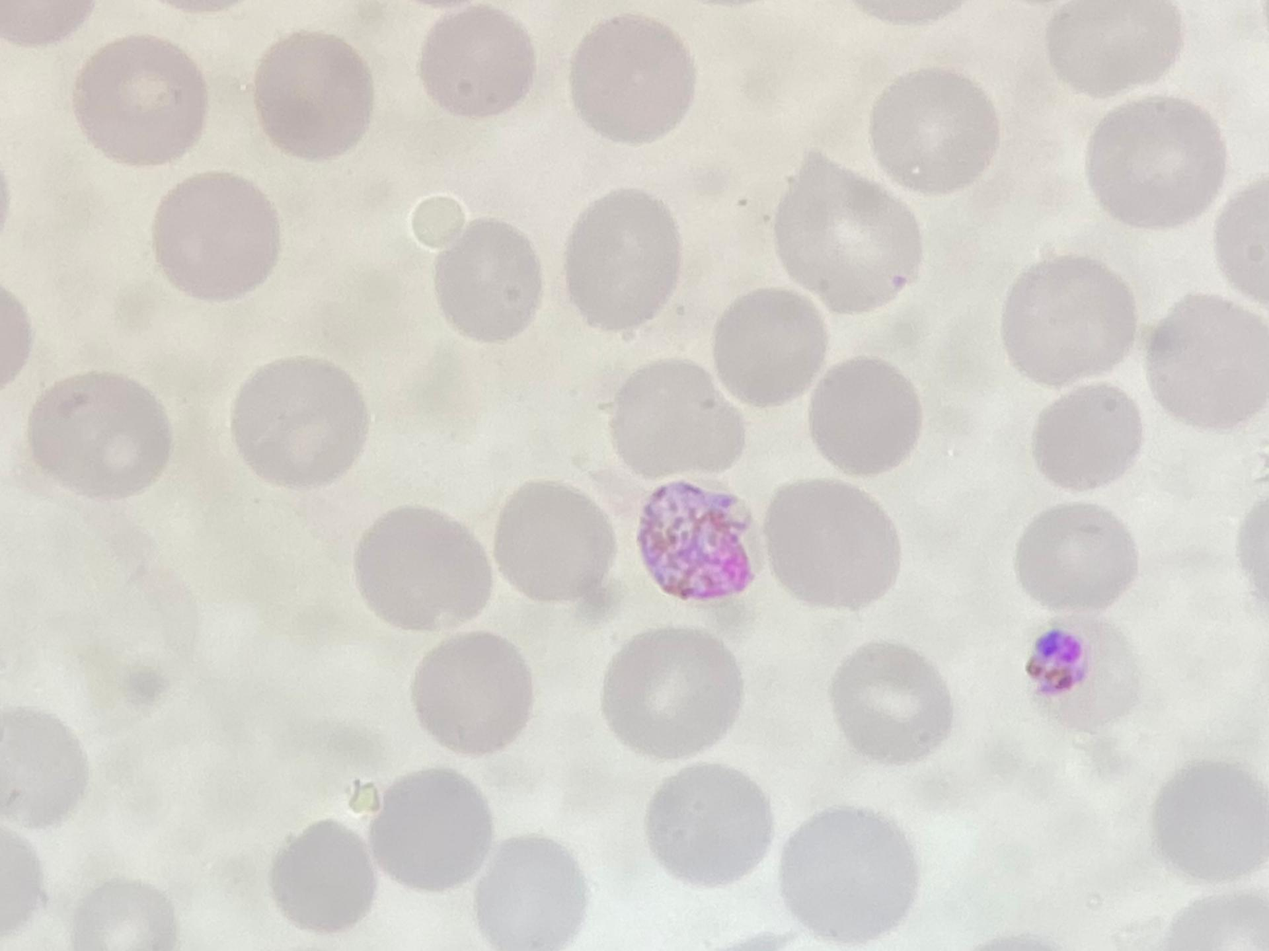Infected: (638, 473, 768, 600)
Uninfected: (775, 155, 923, 311), (1086, 93, 1229, 228), (779, 805, 919, 940), (26, 371, 170, 500), (600, 628, 744, 757), (228, 357, 367, 490), (761, 478, 900, 611), (352, 505, 494, 632), (73, 36, 206, 164), (1002, 256, 1136, 383), (605, 360, 744, 481), (150, 172, 278, 301), (638, 762, 769, 888), (1147, 293, 1269, 428), (867, 69, 998, 192), (563, 193, 682, 328), (367, 767, 494, 892), (570, 17, 695, 143), (406, 632, 532, 756), (492, 481, 617, 605), (252, 32, 374, 159), (829, 642, 956, 763), (806, 356, 925, 476), (1147, 759, 1264, 879), (711, 288, 827, 406), (418, 7, 537, 122), (432, 219, 544, 341), (1015, 503, 1139, 612), (1049, 0, 1184, 97), (471, 838, 586, 948), (267, 819, 376, 931), (1030, 382, 1143, 489), (3, 706, 85, 828), (71, 878, 174, 948)
